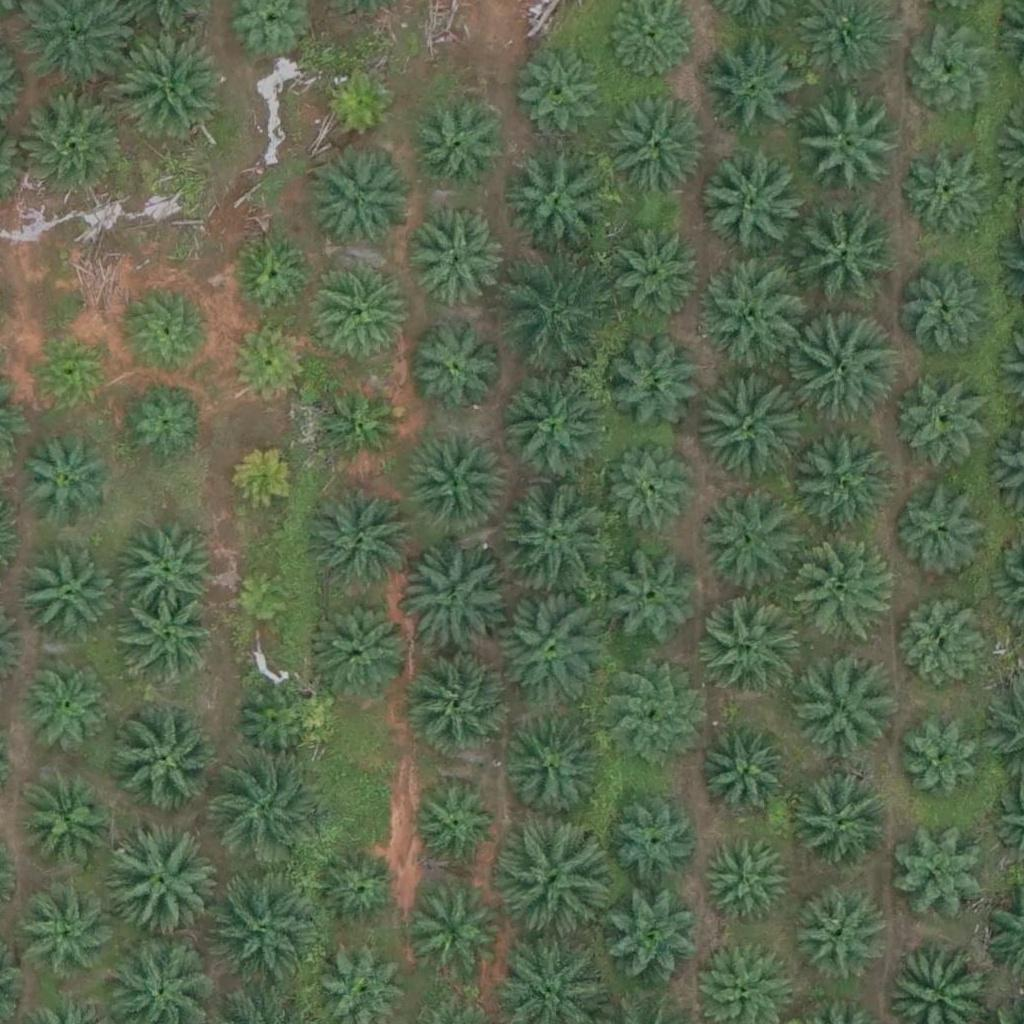Kelapa_Sawit: (497, 596, 610, 710), (304, 480, 417, 594), (211, 873, 324, 987), (108, 701, 221, 815), (779, 533, 892, 646), (500, 478, 613, 591), (497, 815, 610, 928), (402, 546, 515, 659), (101, 829, 214, 942), (695, 261, 808, 374), (498, 142, 611, 255), (499, 265, 612, 378), (788, 315, 900, 429), (694, 383, 806, 497), (112, 32, 224, 146), (14, 89, 126, 203), (214, 752, 326, 865), (788, 204, 900, 317), (888, 816, 988, 917), (597, 889, 697, 990), (503, 716, 603, 817), (403, 433, 503, 534), (416, 656, 516, 757), (317, 597, 417, 698), (117, 517, 217, 618), (11, 430, 111, 531), (18, 546, 118, 647), (18, 770, 118, 871), (20, 887, 120, 988), (795, 424, 895, 525), (799, 94, 899, 195), (706, 35, 806, 136), (605, 332, 705, 433), (409, 91, 509, 192), (409, 201, 509, 302), (402, 324, 502, 425), (307, 153, 407, 254), (306, 261, 406, 362), (791, 662, 891, 762), (793, 778, 893, 878), (705, 598, 805, 698), (599, 438, 699, 538), (699, 150, 799, 250), (507, 375, 607, 475), (609, 218, 709, 318), (608, 94, 708, 194), (700, 496, 799, 597), (21, 668, 109, 757), (700, 724, 788, 812), (701, 837, 789, 925), (606, 681, 694, 769), (605, 551, 693, 639), (234, 682, 322, 770), (126, 597, 214, 685), (902, 24, 990, 112), (902, 270, 990, 358), (317, 57, 405, 145), (125, 285, 213, 373), (125, 377, 213, 465), (223, 317, 311, 405), (231, 228, 319, 316), (513, 48, 601, 136), (412, 783, 499, 872), (895, 713, 982, 801), (895, 595, 982, 683), (898, 488, 985, 576), (797, 889, 884, 977), (613, 796, 700, 884), (416, 898, 503, 986), (315, 850, 402, 938), (901, 148, 988, 236), (901, 373, 988, 461), (26, 327, 113, 415), (316, 377, 403, 465), (228, 439, 303, 515), (233, 568, 295, 631)
